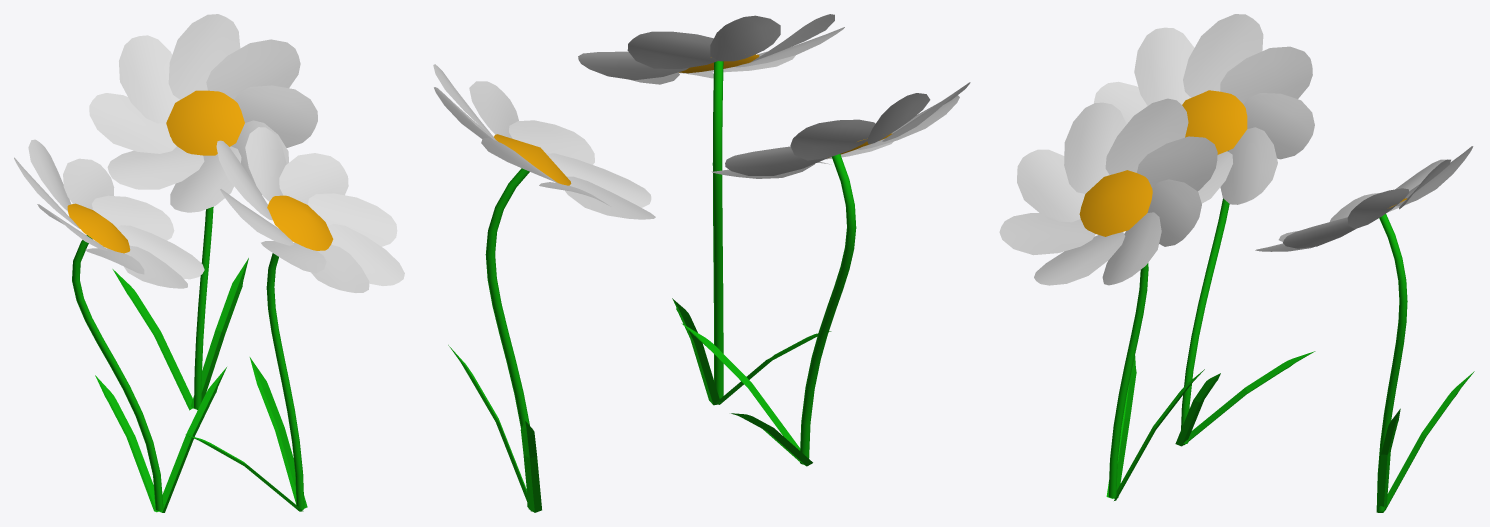
The model's file is light blue flower bunch.fbx.
The picture shows the model from 3 angles, left to right: view 1: azimuth 30°, elevation 25°; view 2: azimuth 150°, elevation 25°; view 3: azimuth 270°, elevation 25°; orthographic projection. The views are drawn at different scales.
Visible parts, largest first — view 1: blue flower bunch.002; view 2: blue flower bunch.002; view 3: blue flower bunch.002.
Part boxes in pixels (<box>): blue flower bunch.002: <box>14,14,404,512</box>; blue flower bunch.002: <box>433,14,970,512</box>; blue flower bunch.002: <box>999,14,1474,512</box>.
Bounding box in the file's own units: 1012 × 1008 × 1158.
